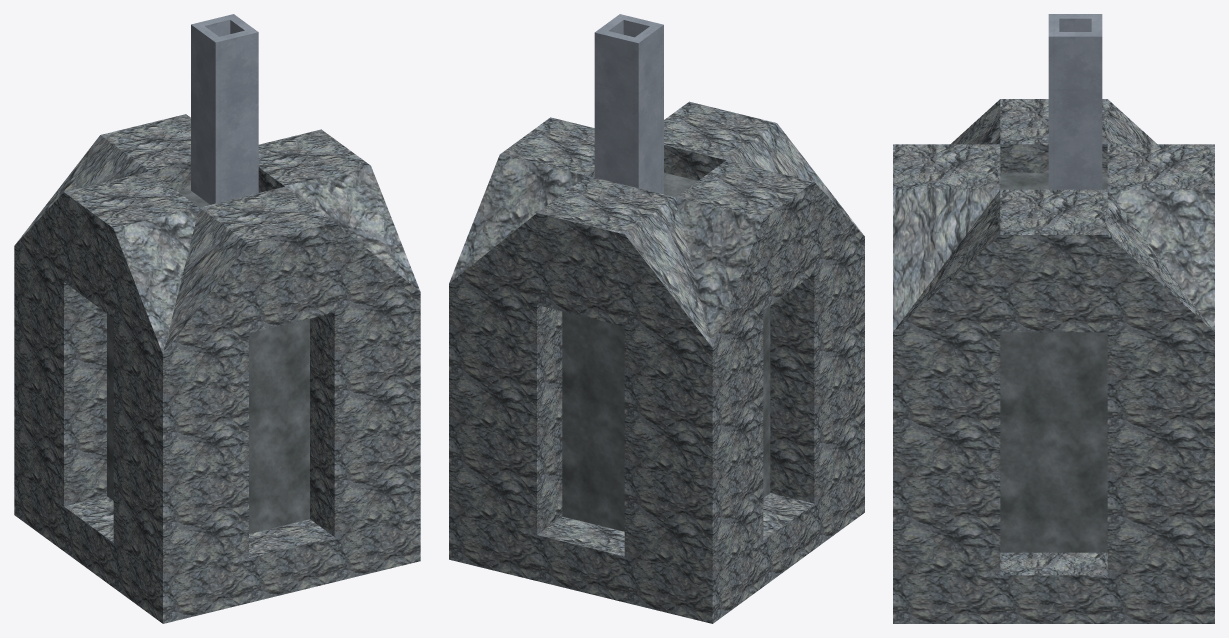
File: furnace.fbx
3 views of the same model, side by side, from view 1: azimuth 30°, elevation 25°; view 2: azimuth 150°, elevation 25°; view 3: azimuth 270°, elevation 25° (orthographic). The views are drawn at different scales.
Parts seen in each view (by area): view 1: mergedBlocks; view 2: mergedBlocks; view 3: mergedBlocks.
Part boxes in pixels (box(x1,y1,x2,y2)): mergedBlocks: box(14, 14, 420, 623); mergedBlocks: box(449, 14, 864, 623); mergedBlocks: box(893, 14, 1214, 623).
Size of the model in its own units: 30 by 55.5 by 30.
Materials: 4 (3 with a texture image).
